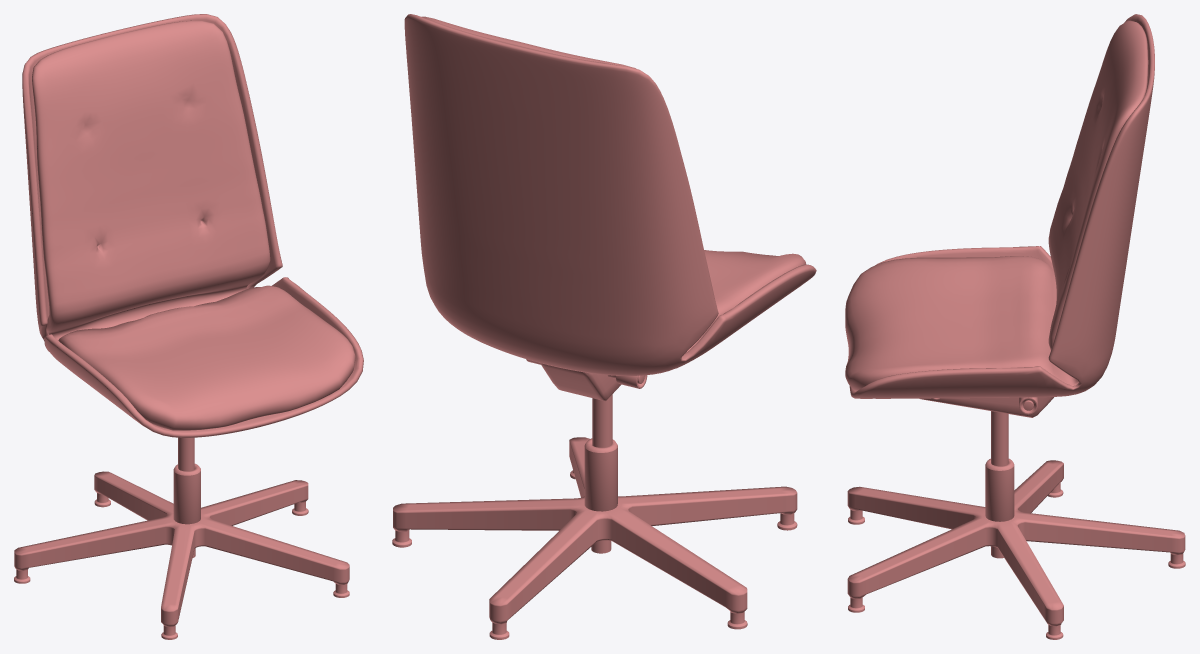
Rendered from TaskChair.fbx.
The picture shows the model from 3 angles, left to right: view 1: azimuth 30°, elevation 25°; view 2: azimuth 150°, elevation 25°; view 3: azimuth 270°, elevation 25°; orthographic projection. The views are drawn at different scales.
Parts seen in each view (by area): view 1: seat, legs, outer_shell, piston, feet; view 2: outer_shell, legs, seat, piston, tiltbox, feet; view 3: seat, outer_shell, legs, piston, tiltbox, feet.
Part boxes in pixels (x1,y1,x2,y2): seat: (32,20,355,430); legs: (14,471,349,626); outer_shell: (22,14,363,437); piston: (173,437,200,558); feet: (14,493,349,639); outer_shell: (404,14,816,375); legs: (393,437,797,624); seat: (421,16,806,357); piston: (584,394,617,553); tiltbox: (541,363,621,401); feet: (392,470,797,639); seat: (845,20,1148,391); outer_shell: (849,14,1154,398); legs: (847,460,1185,626); piston: (985,411,1014,558); tiltbox: (919,397,1053,417); feet: (848,482,1185,639).
Bounding box in the file's own units: 64.06 × 101 × 61.55.
